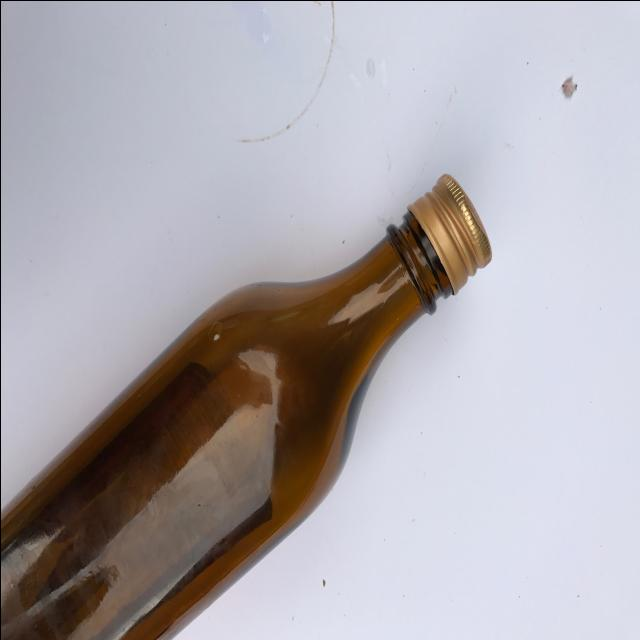glass: (0, 173, 495, 640)
